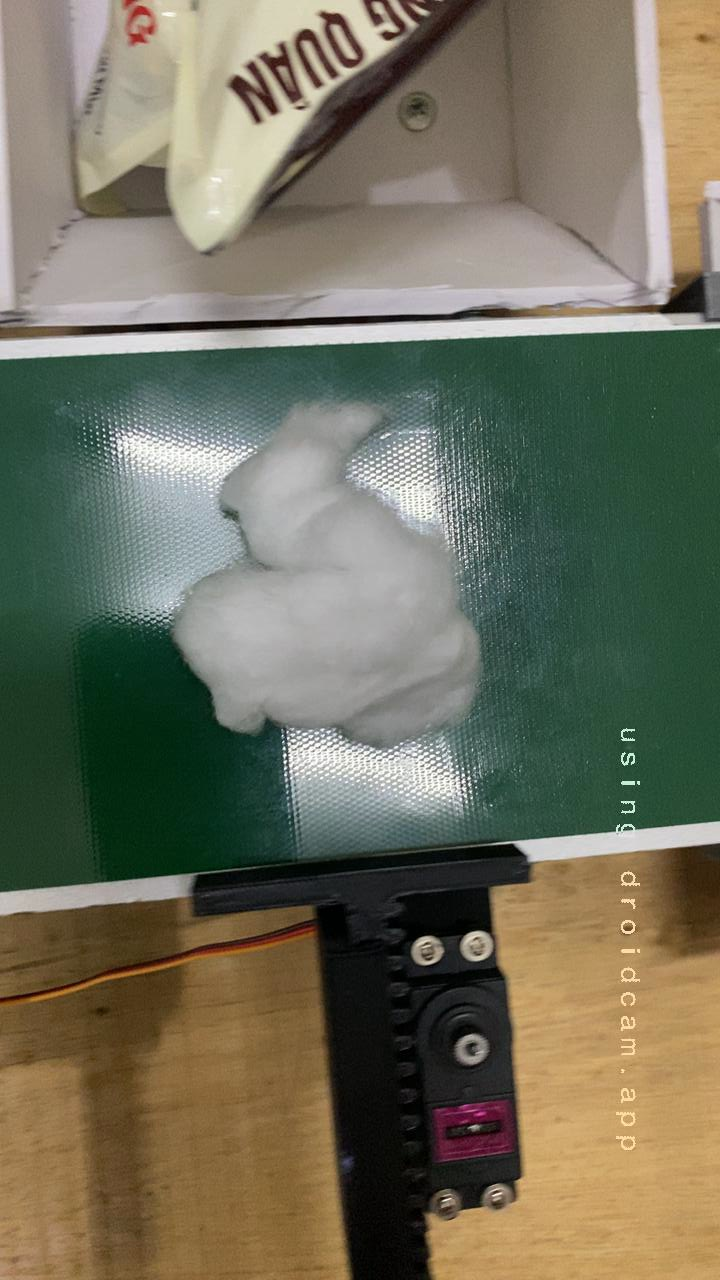cotton: (147, 374, 524, 751)
